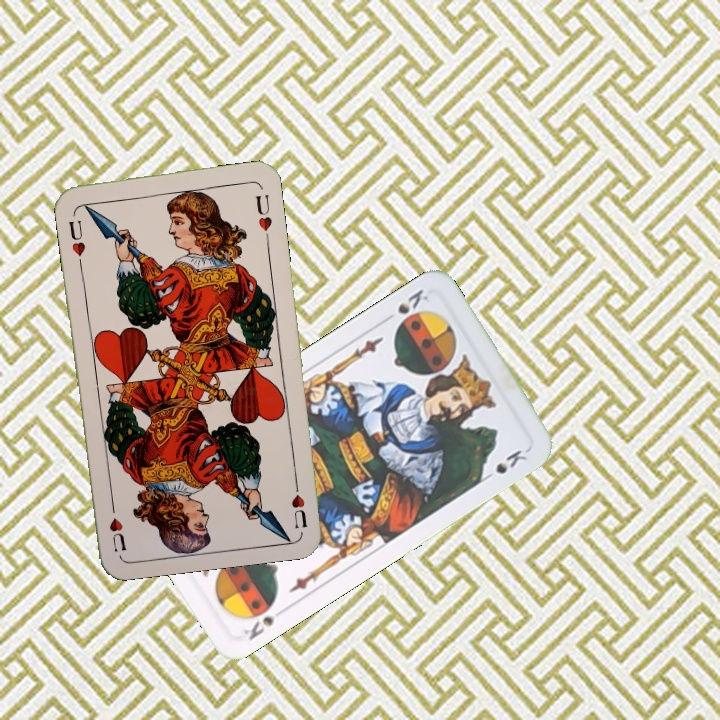HU: (287, 473, 310, 531), (65, 217, 88, 267)
SK: (240, 603, 288, 643), (393, 285, 432, 317)
